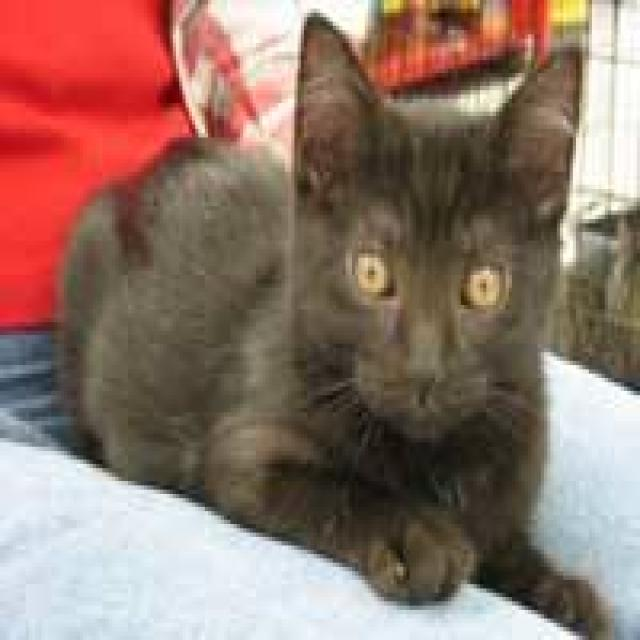cat: (48, 9, 614, 636)
